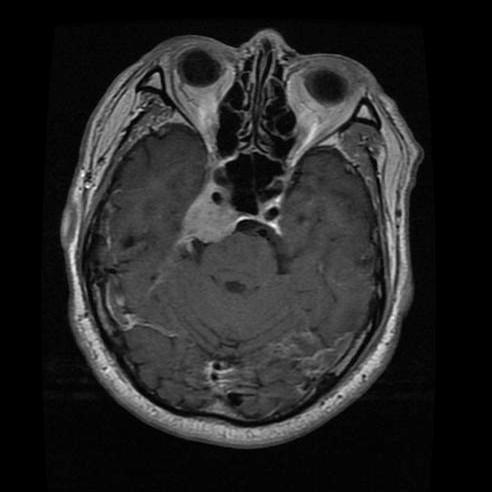Tumour-Pituitary: (178, 172, 263, 262)
